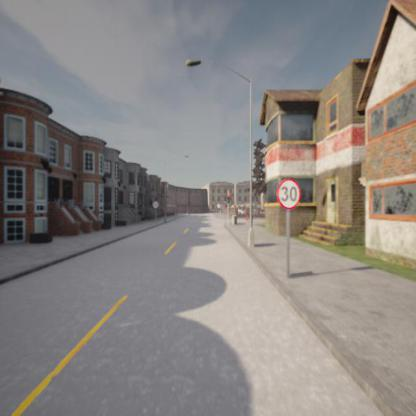traffic_sign_30: (276, 178, 301, 210)
